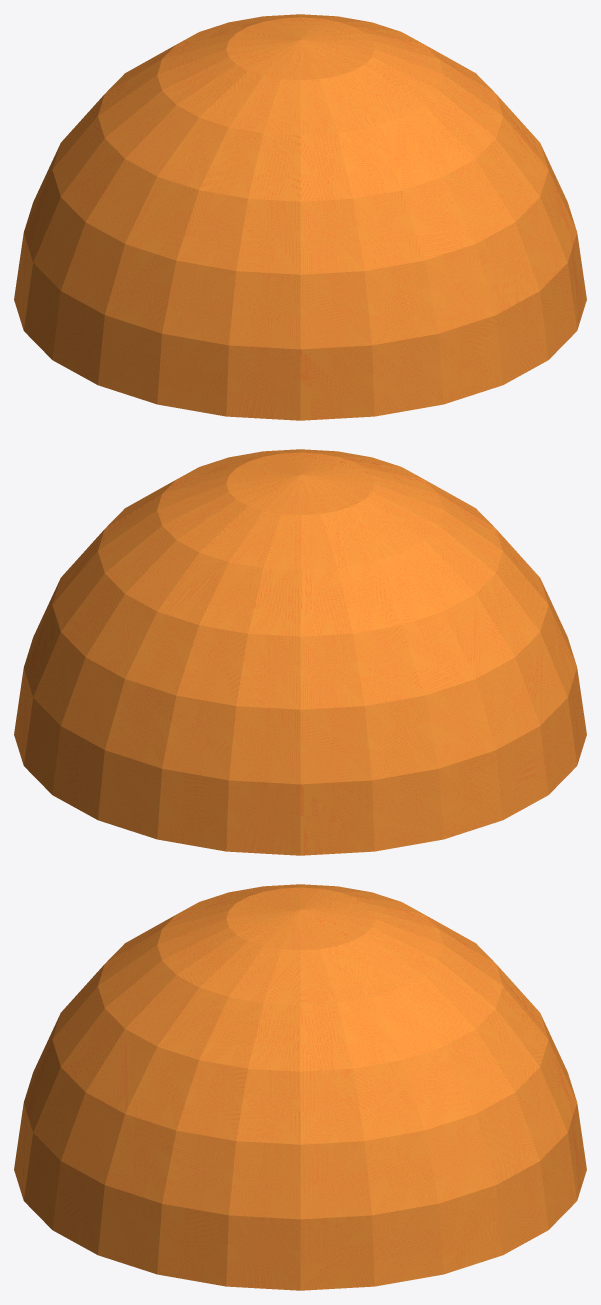
Rendered from orange_100_opacity_dome.dae.
3 renders of one model, top to bottom at view 1: azimuth 30°, elevation 25°; view 2: azimuth 150°, elevation 25°; view 3: azimuth 270°, elevation 25°, orthographic.
Visible parts, largest first — view 1: Component1; view 2: Component1; view 3: Component1.
Part boxes in pixels (bbox=[...]): Component1: bbox=[14, 14, 586, 420]; Component1: bbox=[14, 449, 586, 855]; Component1: bbox=[14, 884, 586, 1290].
Size of the model in its own units: 245371 by 245371 by 132150.
